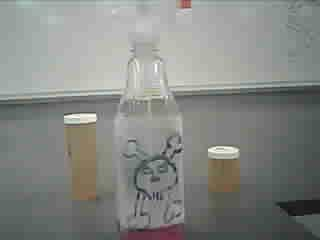Bottle A: (58, 105, 109, 205)
Bottle B: (200, 139, 248, 197)
hazard: (108, 0, 198, 239)
